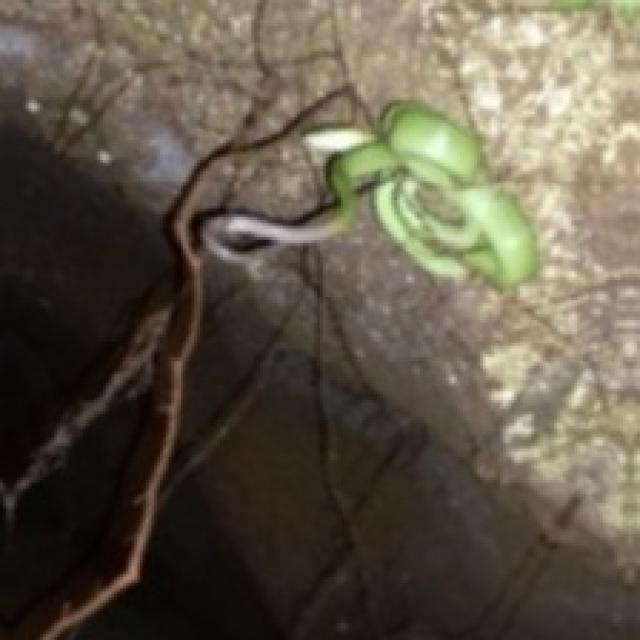red-tailed green ratsnake: (197, 94, 546, 294)
